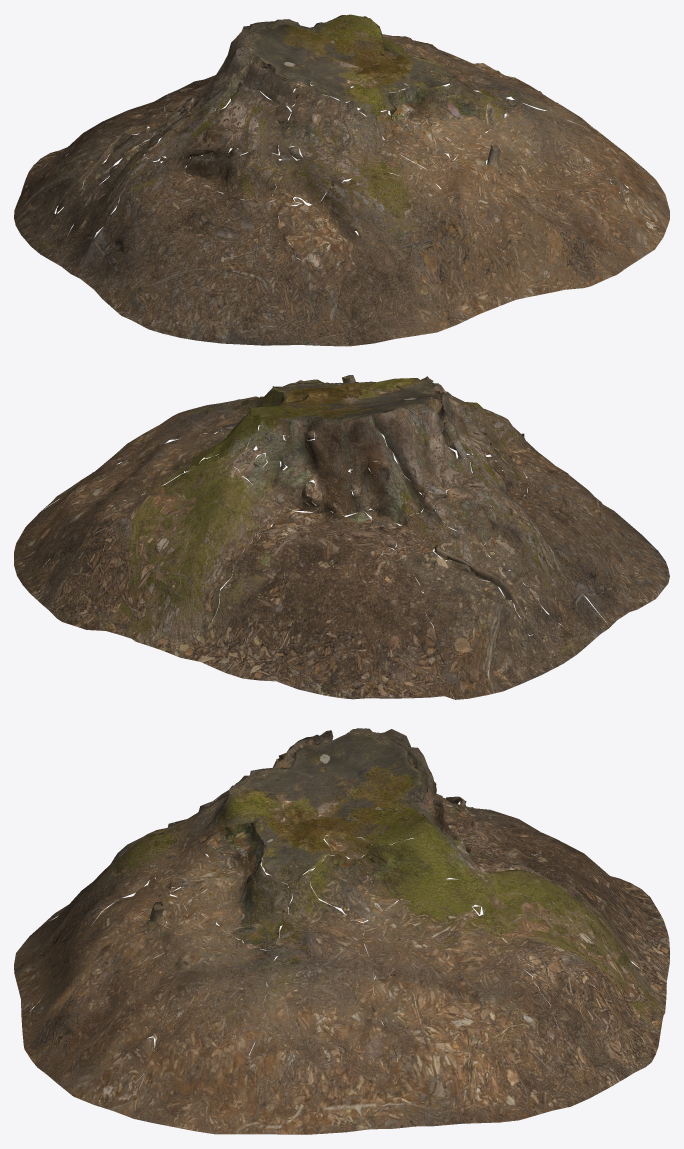
The picture shows the model from 3 angles, top to bottom: view 1: azimuth 30°, elevation 25°; view 2: azimuth 150°, elevation 25°; view 3: azimuth 270°, elevation 25°; orthographic projection. The views are drawn at different scales.
Visible parts, largest first — view 1: tree_stump_02; view 2: tree_stump_02; view 3: tree_stump_02.
Boxes of the visible parts, bbox=[...] form: tree_stump_02: bbox=[14, 14, 669, 346]; tree_stump_02: bbox=[14, 375, 669, 699]; tree_stump_02: bbox=[14, 728, 669, 1134].
Size of the model in its own units: 1.52 by 0.5226 by 1.39.
1 material, 1 textured.
